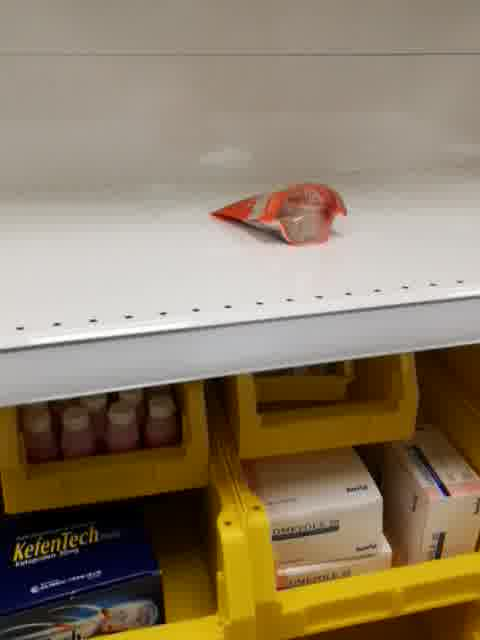whitechia: (209, 182, 348, 247)
